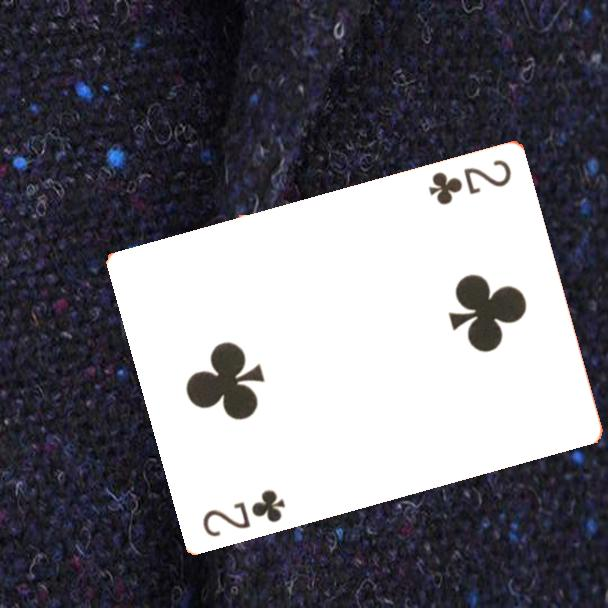c02: (199, 485, 289, 540), (425, 155, 515, 208)
